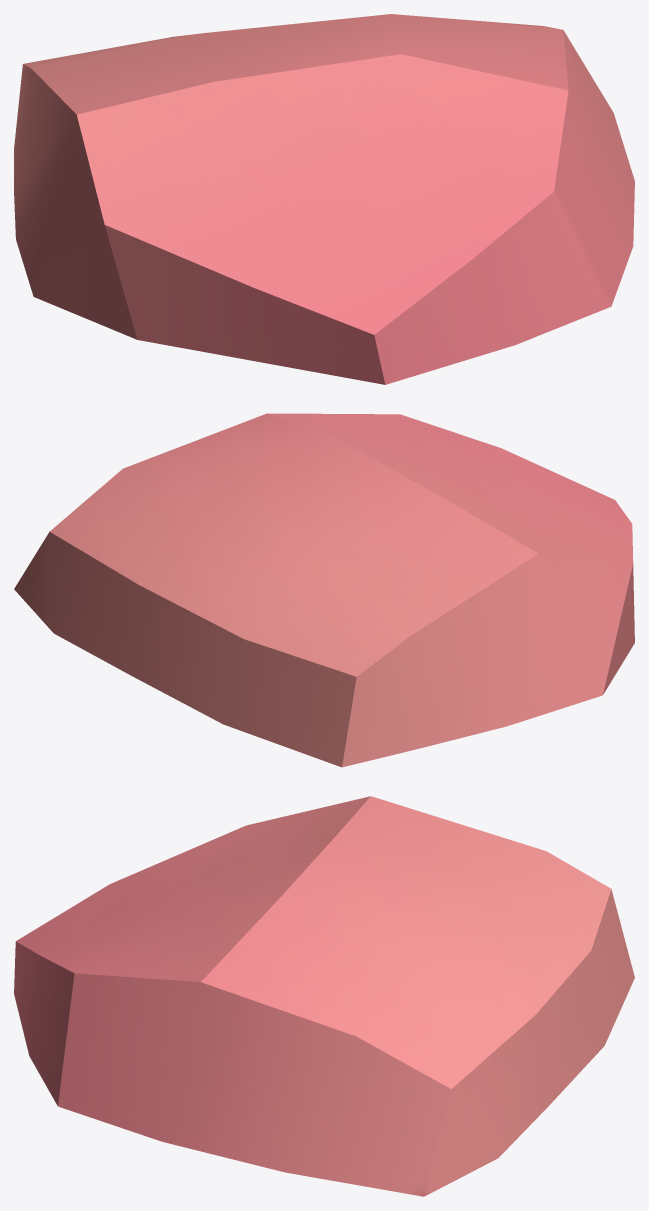
Rendered from Sunset_Stone_002.FBX.
The picture shows the model from 3 angles, top to bottom: view 1: azimuth 30°, elevation 25°; view 2: azimuth 150°, elevation 25°; view 3: azimuth 270°, elevation 25°; orthographic projection. The views are drawn at different scales.
Visible parts, largest first — view 1: Sunset_Stone_002; view 2: Sunset_Stone_002; view 3: Sunset_Stone_002.
Boxes of the visible parts, x1,y1,x2,y2 form: Sunset_Stone_002: (14, 14, 634, 384); Sunset_Stone_002: (14, 413, 634, 767); Sunset_Stone_002: (14, 796, 634, 1196).
Bounding box in the file's own units: 222 × 63.1 × 207.
Materials: 1 (1 with a texture image).
